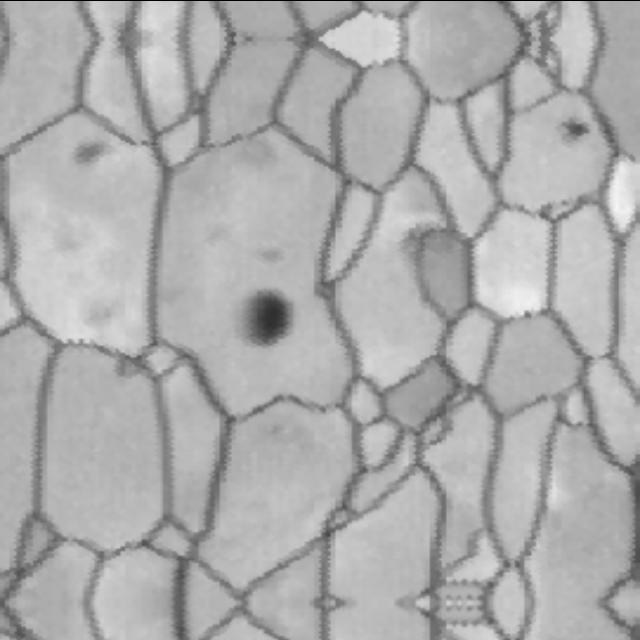good_void: (227, 281, 297, 360), (554, 107, 596, 153), (68, 135, 116, 168), (252, 243, 293, 267), (516, 299, 538, 331), (531, 197, 557, 223)
